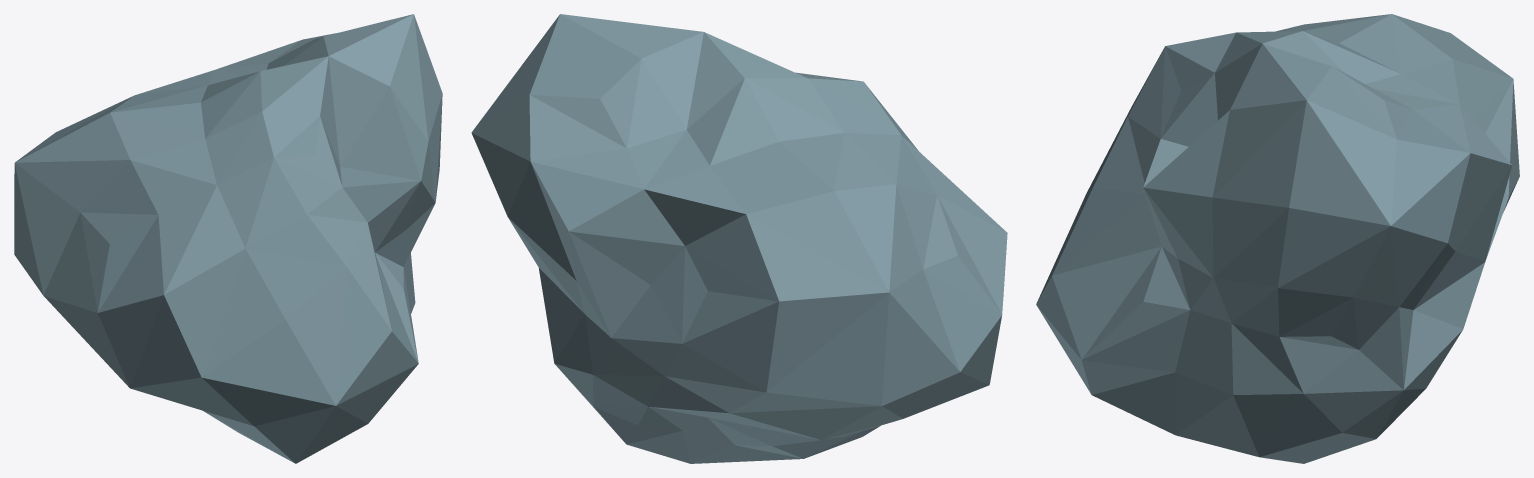
File: asteroidB.obj
3 renders of one model, left to right at view 1: azimuth 30°, elevation 25°; view 2: azimuth 150°, elevation 25°; view 3: azimuth 270°, elevation 25°, orthographic. The views are drawn at different scales.
Visible parts, largest first — view 1: Cube; view 2: Cube; view 3: Cube.
Part boxes in pixels (x1,y1,x2,y2): Cube: (14,14,442,463); Cube: (471,14,1007,463); Cube: (1036,14,1519,463).
Bounding box in the file's own units: 3.77 × 3.24 × 3.32.
